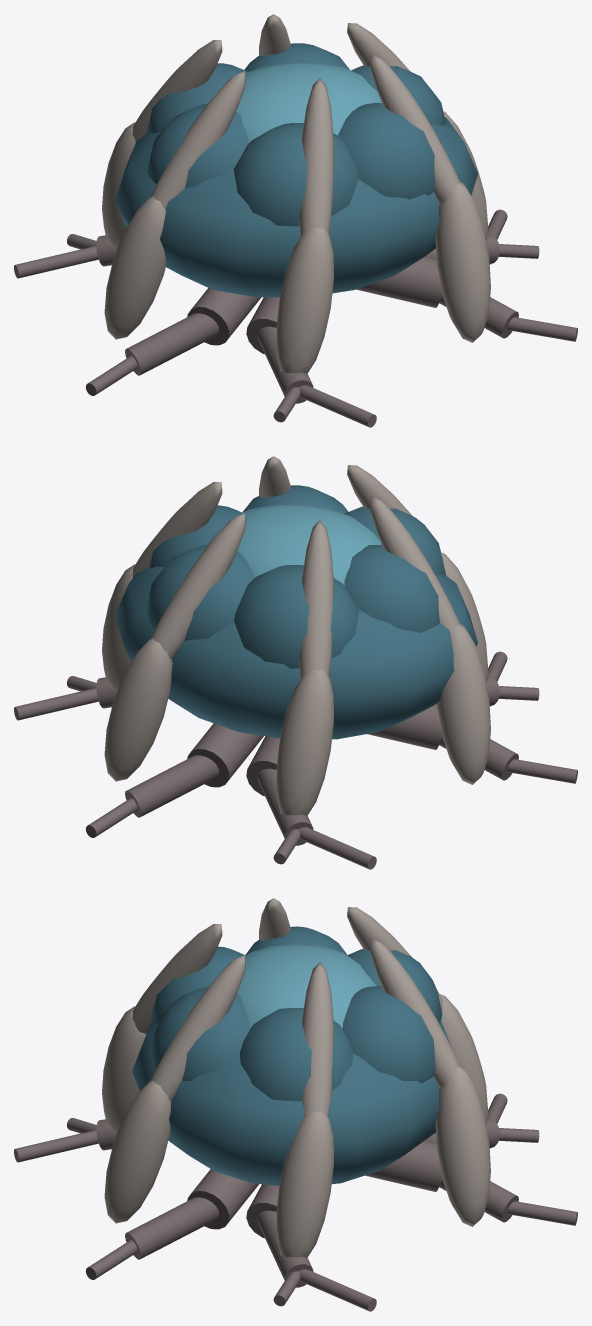
The model's file is CMU3DHiveCMU14PathogenPlasmaTree.glb.
3 views of the same model, one above another, from view 1: azimuth 30°, elevation 25°; view 2: azimuth 150°, elevation 25°; view 3: azimuth 270°, elevation 25° (orthographic).
Parts seen in each view (by area): view 1: mycelial clasp (×11), nutrient basal sac, lobed nutrient tissue (×6), sinuous anchoring root (×10), soft nutrient crown, forked root tip; view 2: mycelial clasp (×11), nutrient basal sac, lobed nutrient tissue (×6), sinuous anchoring root (×10), soft nutrient crown, forked root tip; view 3: mycelial clasp (×11), nutrient basal sac, lobed nutrient tissue (×6), sinuous anchoring root (×10), soft nutrient crown, forked root tip.
Boxes of the visible parts, <box> form: mycelial clasp (×11): <box>102,14,490,373</box>; nutrient basal sac: <box>115,117,477,297</box>; lobed nutrient tissue (×6): <box>146,43,445,226</box>; sinuous anchoring root (×10): <box>14,246,577,427</box>; soft nutrient crown: <box>236,62,381,143</box>; forked root tip: <box>498,244,539,258</box>; mycelial clasp (×11): <box>102,456,490,815</box>; nutrient basal sac: <box>114,566,477,739</box>; lobed nutrient tissue (×6): <box>146,485,446,668</box>; sinuous anchoring root (×10): <box>14,688,577,869</box>; soft nutrient crown: <box>207,504,381,585</box>; forked root tip: <box>498,686,539,700</box>; mycelial clasp (×11): <box>102,898,490,1257</box>; nutrient basal sac: <box>132,1020,450,1185</box>; lobed nutrient tissue (×6): <box>150,926,442,1101</box>; sinuous anchoring root (×10): <box>14,1130,577,1311</box>; soft nutrient crown: <box>237,943,376,1028</box>; forked root tip: <box>498,1128,539,1142</box>.
Bounding box in the file's own units: 0.9671 × 0.4962 × 0.9609.
